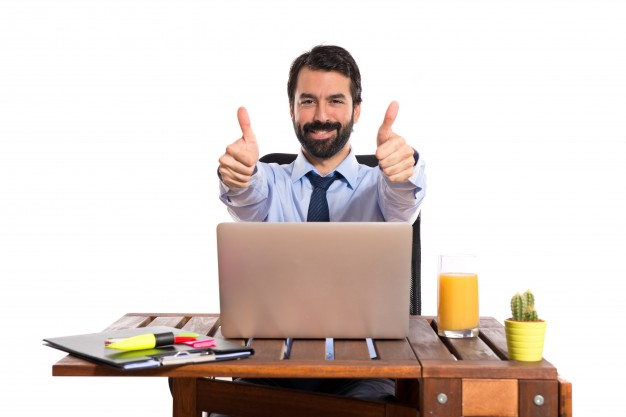thumbsup: (375, 100, 415, 182), (218, 106, 255, 188)
